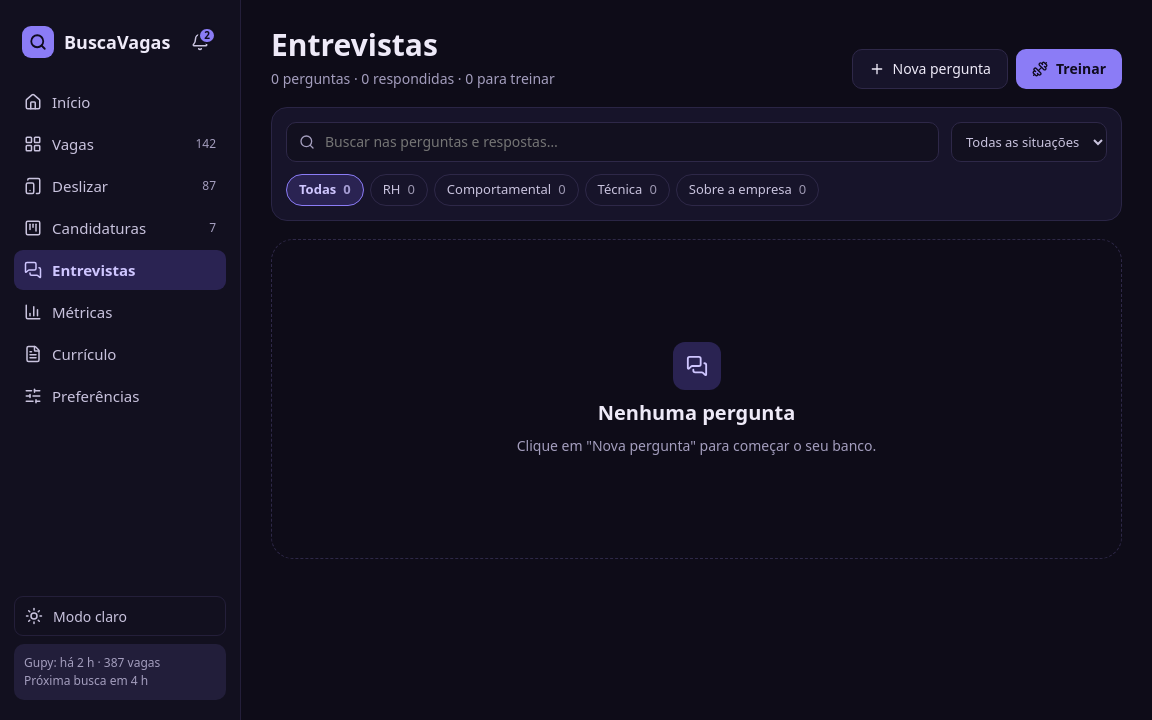
Test case: Sino de avisos › mostra quantos são novos; abrir lista as vagas e marca tudo como lido
The width and height of the screenshot is (1152, 720).
Click the button named "Avisos, 2 novos": click(200, 42) 182,24 -> 218,60
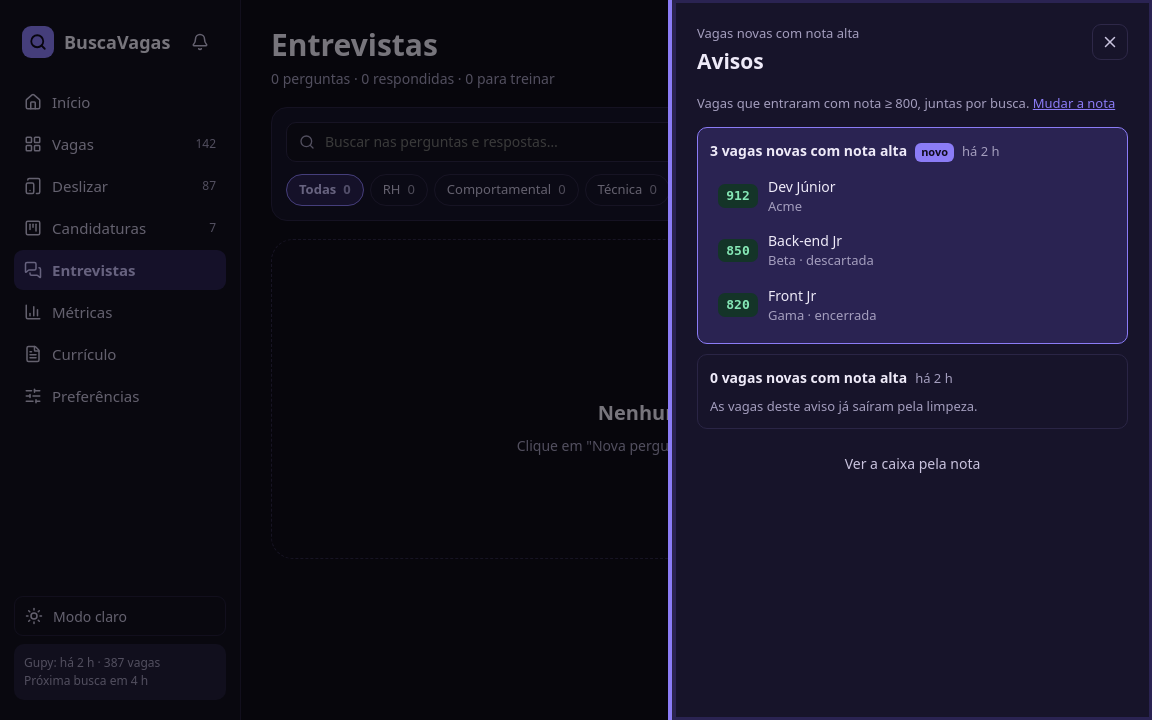
Result: the list item that starts with "3 vagas novas com nota alta" is shown at 710,141 -> 907,160
Result: the list item that starts with "3 vagas novas com nota alta" shows "novo" at 921,144 -> 948,159
Result: the list item that starts with "3 vagas novas com nota alta" shows "Beta · descartada" at 697,127 -> 1128,344
Click the button "912 Dev Júnior Acme": click(738, 196) 710,170 -> 1115,222
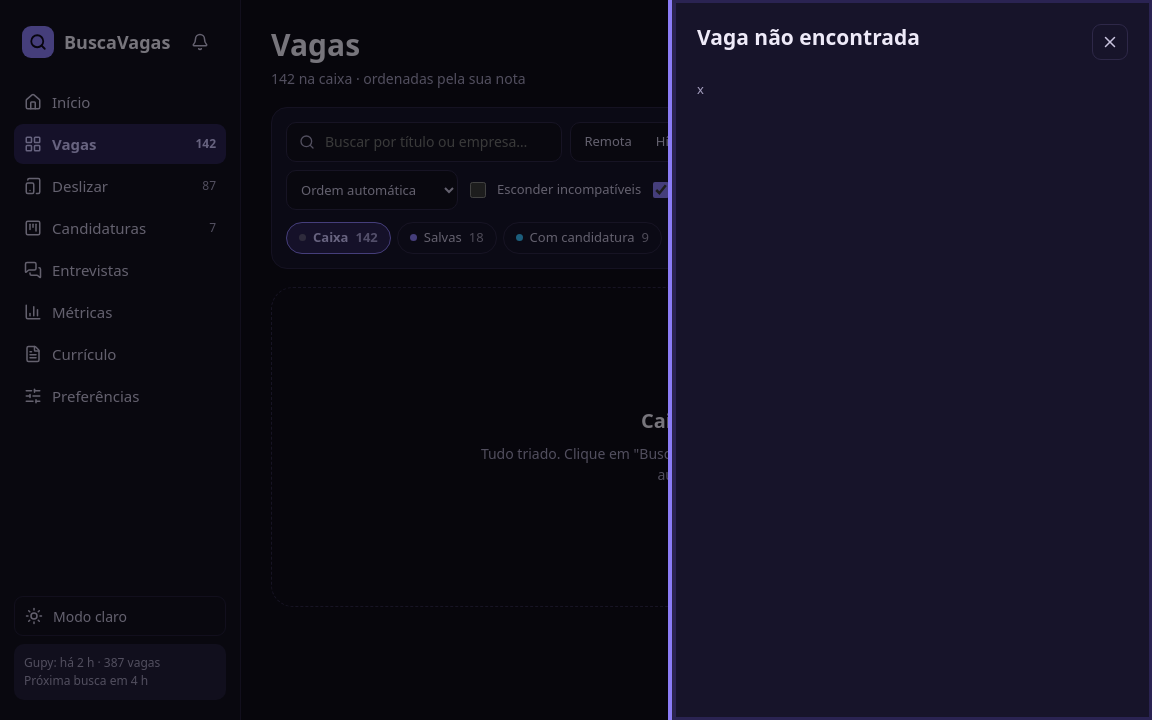
Expected: the button named "Avisos" is shown, 182,24 -> 218,60
Result: the heading "Avisos" is gone
